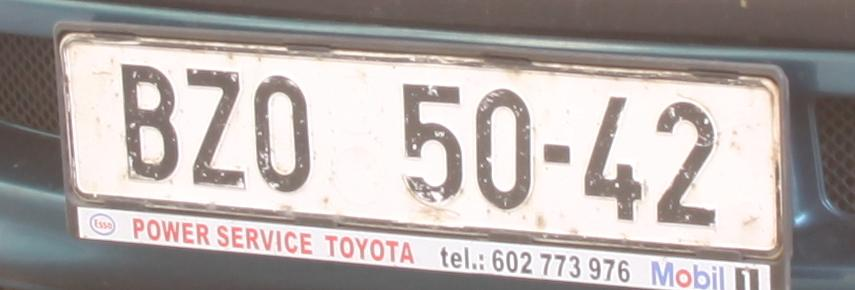-: (544, 145, 570, 163)
0: (477, 88, 531, 209)
2: (657, 100, 713, 226)
4: (585, 97, 641, 219)
5: (398, 84, 461, 205)
B: (120, 64, 177, 183)
O: (254, 74, 309, 188)
Z: (183, 70, 243, 187)
